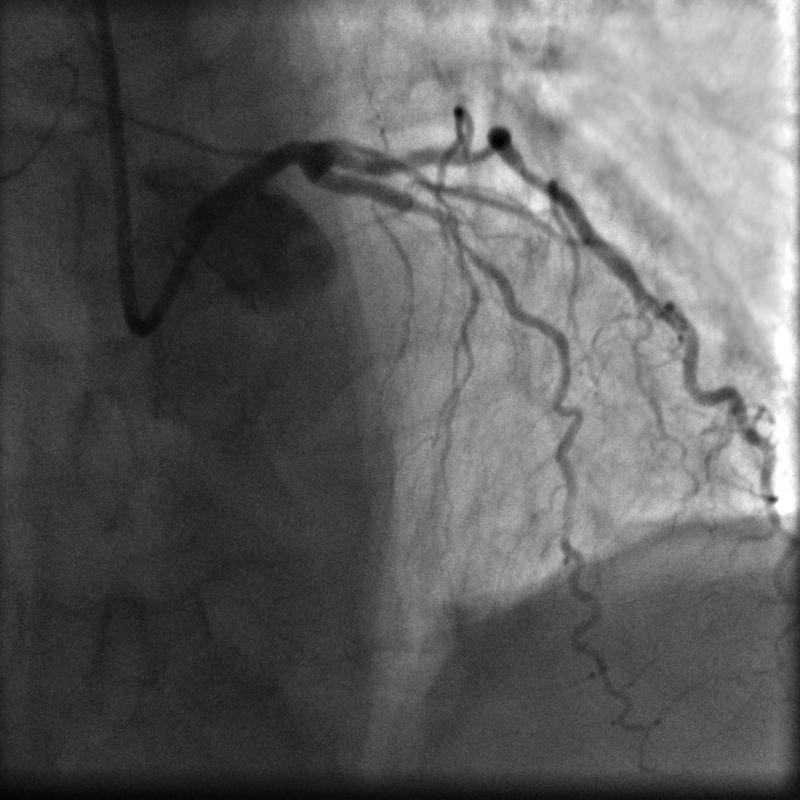Stenosis: (410, 188, 458, 235)
